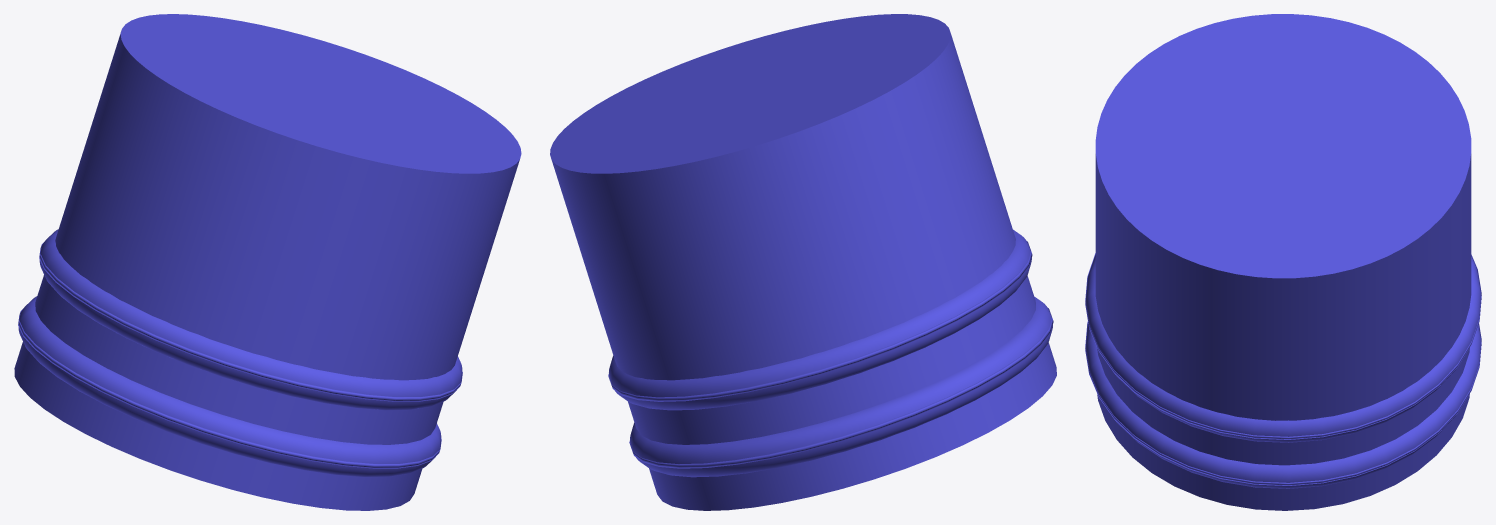
File: bombilla92.obj
3 renders of one model, left to right at view 1: azimuth 30°, elevation 25°; view 2: azimuth 150°, elevation 25°; view 3: azimuth 270°, elevation 25°, orthographic. The views are drawn at different scales.
Visible parts, largest first — view 1: Cylinder001, Cylinder003, Cylinder004, Cylinder006, Cylinder002; view 2: Cylinder001, Cylinder003, Cylinder004, Cylinder006, Cylinder002; view 3: Cylinder001, Cylinder004, Cylinder002, Cylinder003, Cylinder006.
Part boxes in pixels (left/top/right/bottom): Cylinder001: left=55, top=14, right=521, bottom=380; Cylinder003: left=35, top=275, right=443, bottom=444; Cylinder004: left=18, top=296, right=441, bottom=476; Cylinder006: left=14, top=342, right=422, bottom=510; Cylinder002: left=39, top=229, right=462, bottom=410; Cylinder001: left=550, top=14, right=1015, bottom=380; Cylinder003: left=628, top=275, right=1035, bottom=444; Cylinder004: left=629, top=296, right=1053, bottom=477; Cylinder006: left=649, top=342, right=1056, bottom=510; Cylinder002: left=608, top=229, right=1032, bottom=410; Cylinder001: left=1095, top=14, right=1471, bottom=420; Cylinder004: left=1085, top=321, right=1481, bottom=488; Cylinder002: left=1085, top=253, right=1481, bottom=442; Cylinder003: left=1097, top=347, right=1469, bottom=465; Cylinder006: left=1097, top=394, right=1469, bottom=510.
Bounding box in the file's own units: 84.51 × 79.16 × 72.21.
